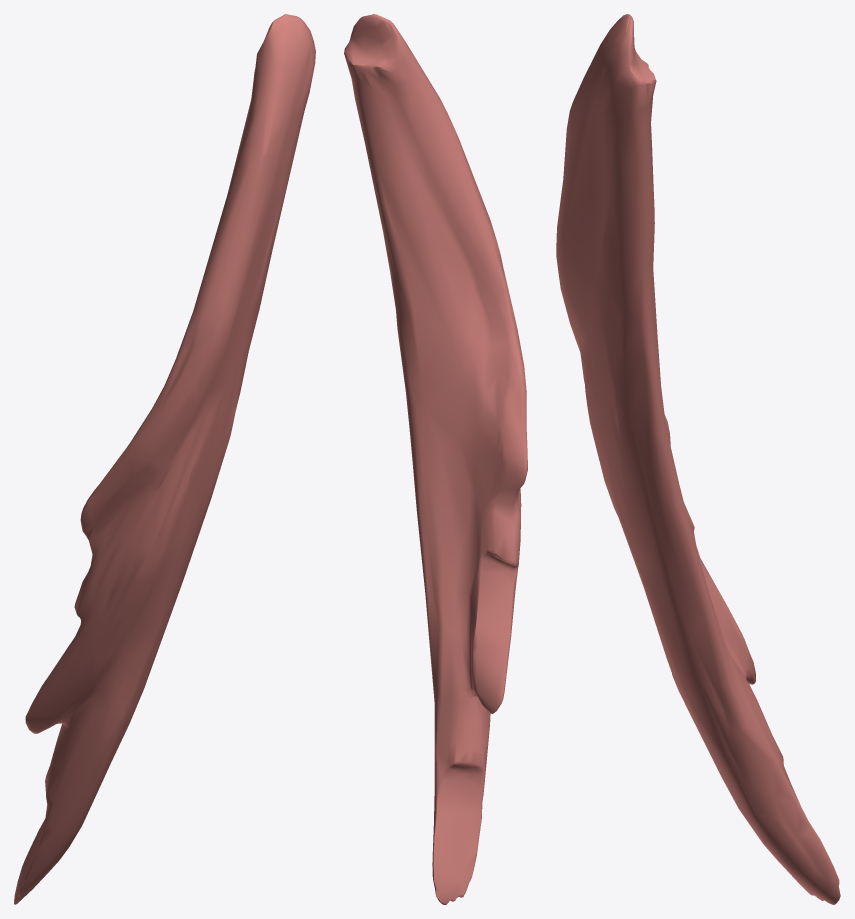
Rendered from fma46288_fj1557.glb.
3 renders of one model, left to right at view 1: azimuth 30°, elevation 25°; view 2: azimuth 150°, elevation 25°; view 3: azimuth 270°, elevation 25°, orthographic. The views are drawn at different scales.
Parts seen in each view (by area): view 1: FMA46288_FJ1557; view 2: FMA46288_FJ1557; view 3: FMA46288_FJ1557.
Part boxes in pixels (x1,y1,x2,y2): FMA46288_FJ1557: (14,14,315,904); FMA46288_FJ1557: (344,14,527,904); FMA46288_FJ1557: (556,14,840,904).
Bounding box in the file's own units: 0.0214 × 0.0796 × 0.0209.
